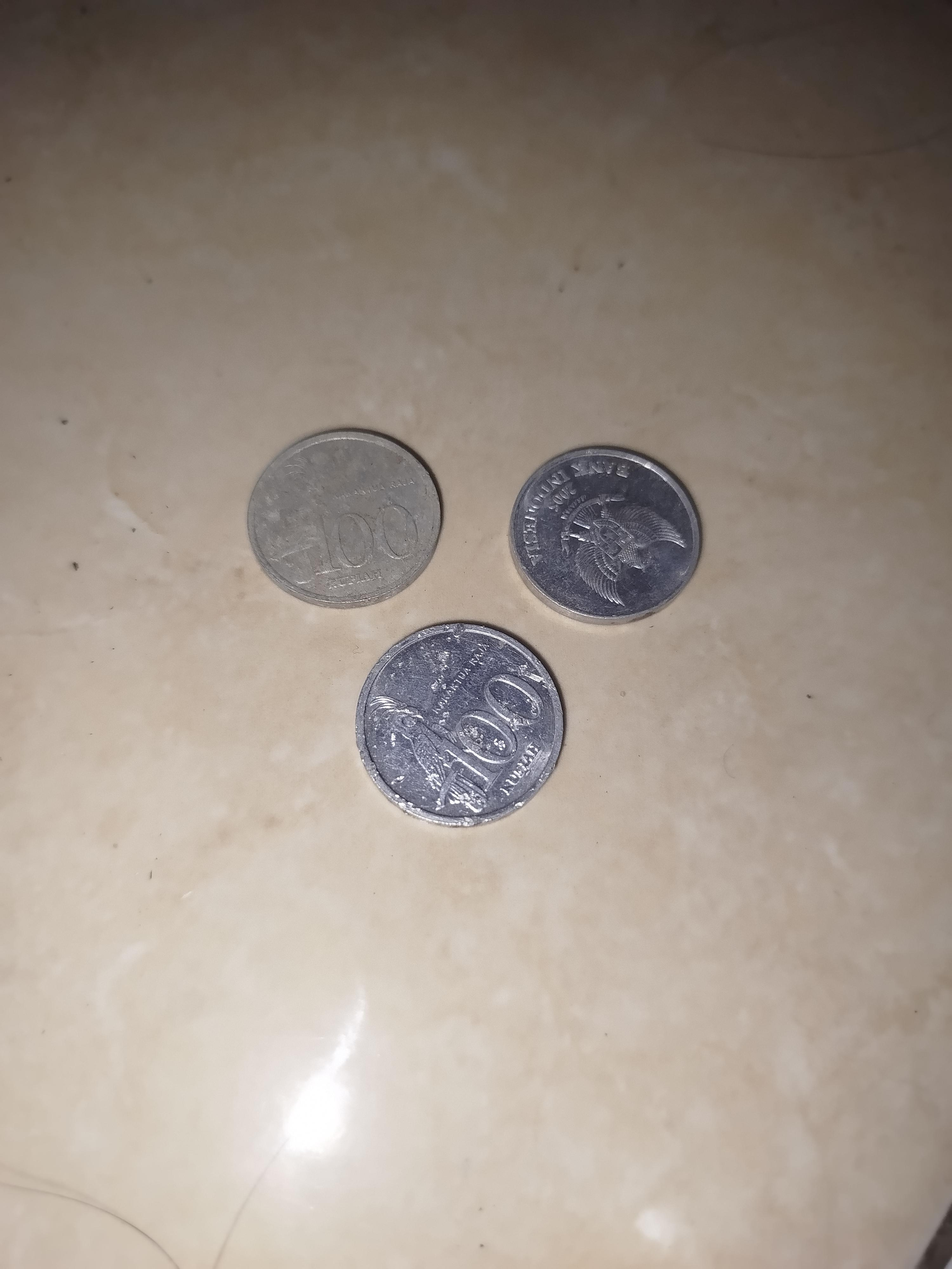coin_100_e1999: (359, 607, 572, 831), (498, 426, 712, 628), (232, 423, 443, 607)
